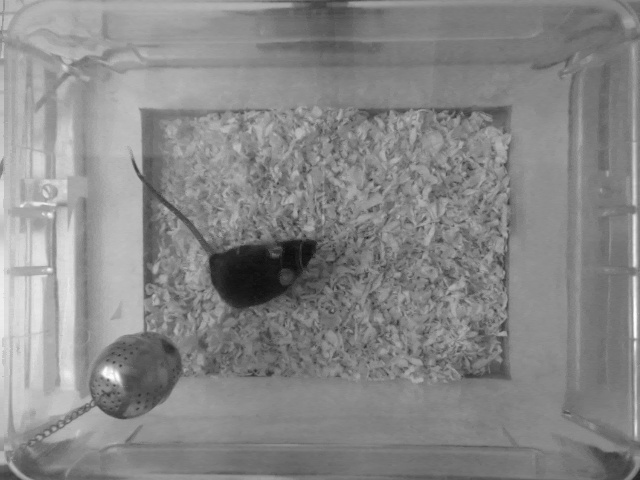mice: (130, 143, 319, 313)
